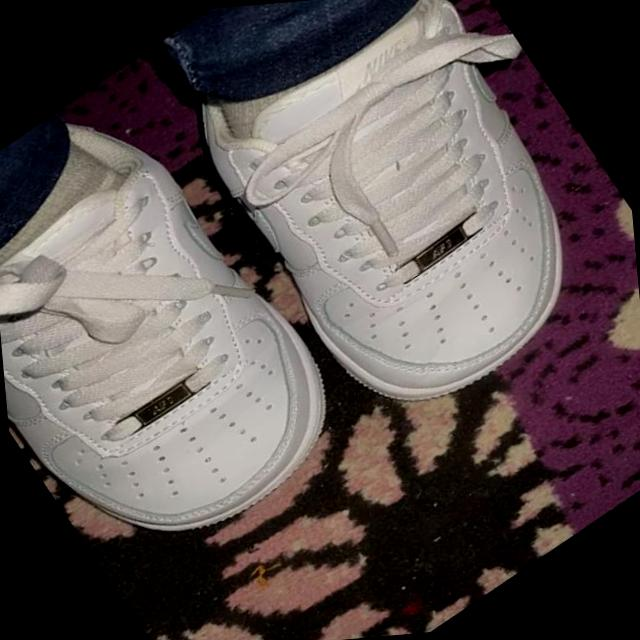nike_fake_airforce: (147, 0, 640, 467), (0, 59, 381, 603)
